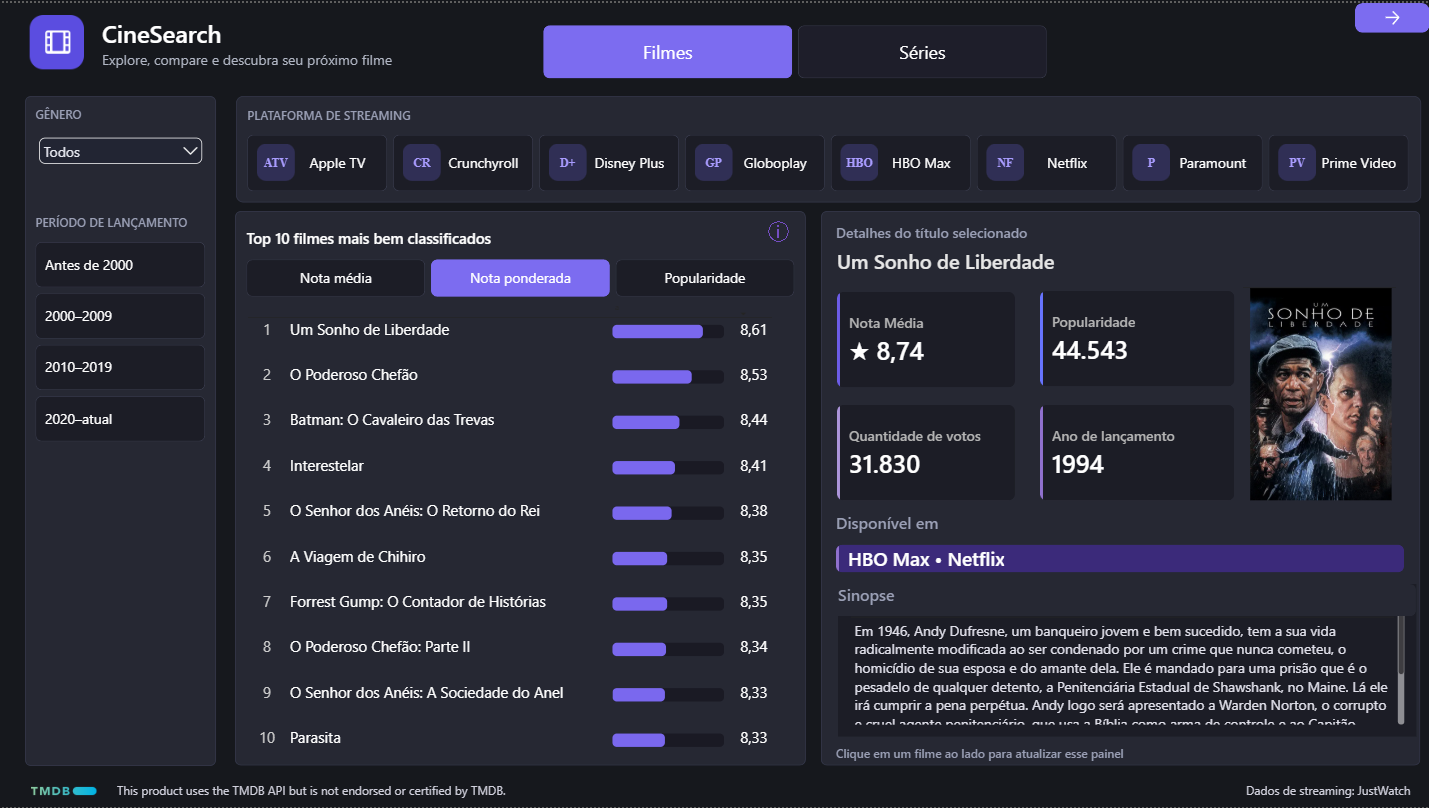

The dashboard page shown, as its layout file describes it:
{"tool":"powerbi","page":{"name":"Filmes","canvas":[1920,1080],"ordinal":0},"visuals":[{"type":"shape","box":[33.3,125,256.7,900],"z":0},{"type":"textbox","box":[137.1,19,304.9,43.8],"z":1000},{"type":"textbox","box":[137.1,62.7,405.6,51.1],"z":2000},{"type":"image","box":[23.3,16,106.5,72.9],"z":3000},{"type":"advancedSlicerVisual","title":"PLATAFORMA DE STREAMING","fields":{"Values":["vw_Provedores.provedor_nome"]},"box":[316.7,125,1591.7,143.3],"z":4000},{"type":"slicer","title":"GÊNERO","fields":{"Values":["vw_Generos.genero_nome"]},"box":[33.6,125.5,256.7,144.4],"z":5000},{"type":"advancedSlicerVisual","title":"PERÍODO DE LANÇAMENTO","fields":{"Values":["vw_Titulos.Personalizar"]},"box":[33.3,269.7,256.7,334.4],"z":6000},{"type":"shape","box":[315,280,766.7,745],"z":7000},{"type":"shape","box":[1103.3,280,805,745],"z":8000},{"type":"advancedSlicerVisual","fields":{"Values":["SeletorMetrica.Metrica"]},"box":[316.6,287.4,766.7,121.7],"z":9000},{"type":"tableEx","fields":{"Values":["SeletorMetrica.Ranking","vw_Titulos.titulo","SeletorMetrica.Barra SVG","vw_Titulos.Valor Ordenacao"]},"box":[315.4,400.1,788.4,668.7],"z":10000},{"type":"textbox","box":[1123.3,295,284.5,61.3],"z":11000},{"type":"cardVisual","fields":{"Data":["SeletorMetrica.Detalhe Titulo"]},"box":[1108.3,308.3,798.3,73.3],"z":12000},{"type":"cardVisual","fields":{"Data":["SeletorMetrica.KPI NotaMedia"]},"box":[1124.9,388.1,239.3,128.4],"z":13000},{"type":"cardVisual","fields":{"Data":["SeletorMetrica.KPI Popularidade"]},"box":[1396.7,386.7,261.2,128.4],"z":14000},{"type":"cardVisual","fields":{"Data":["SeletorMetrica.KPI Votos"]},"box":[1124.9,539.8,239.3,128.4],"z":15000},{"type":"cardVisual","fields":{"Data":["SeletorMetrica.KPI AnoLançamento"]},"box":[1396.7,540,261.7,128.3],"z":16000},{"type":"cardVisual","title":"Disponível em","fields":{"Data":["SeletorMetrica.KPI Plataformas Texto"]},"box":[1123.3,683.3,763.3,81.7],"z":17000},{"type":"tableEx","fields":{"Values":["SeletorMetrica.KPI Sinopse"]},"box":[1125,780,776.7,205],"z":18000},{"type":"shape","box":[1118.3,780,783.3,43.3],"z":19000},{"type":"textbox","box":[1125,780,158.3,63.3],"z":20000},{"type":"textbox","box":[1123.3,996.7,761.7,50],"z":21000},{"type":"textbox","box":[156.7,1046.7,925,21.7],"z":22000},{"type":"image","box":[41.7,1036.7,88.3,43.3],"z":23000},{"type":"textbox","box":[1673.3,1046.7,235,21.7],"z":24000},{"type":"tableEx","fields":{"Values":["SeletorMetrica.Poster Selecionado"]},"box":[1668.3,360,216.7,323.3],"z":25000},{"type":"cardVisual","fields":{"Data":["SeletorMetrica.Icone_Info"]},"box":[1031.5,287.4,36.5,37.9],"z":26000},{"type":"advancedSlicerVisual","fields":{"Values":["vw_Titulos.Tipo_segmento"]},"box":[715.4,16.1,705.2,99.3],"z":27000},{"type":"actionButton","box":[1820,0,100,40],"z":28000}]}

Visuals, with their boxes in screenshot pixels (x1, y1, x2, y2), scaled from the page's 1920x1080 canvas onto the 1429x808 screenshot:
shape: {"x1": 25, "y1": 94, "x2": 216, "y2": 767}
textbox: {"x1": 102, "y1": 14, "x2": 329, "y2": 47}
textbox: {"x1": 102, "y1": 47, "x2": 404, "y2": 85}
image: {"x1": 17, "y1": 12, "x2": 97, "y2": 67}
"PLATAFORMA DE STREAMING" advancedSlicerVisual: {"x1": 236, "y1": 94, "x2": 1420, "y2": 201}
"GÊNERO" slicer: {"x1": 25, "y1": 94, "x2": 216, "y2": 202}
"PERÍODO DE LANÇAMENTO" advancedSlicerVisual: {"x1": 25, "y1": 202, "x2": 216, "y2": 452}
shape: {"x1": 234, "y1": 209, "x2": 805, "y2": 767}
shape: {"x1": 821, "y1": 209, "x2": 1420, "y2": 767}
advancedSlicerVisual - SeletorMetrica.Metrica: {"x1": 236, "y1": 215, "x2": 806, "y2": 306}
tableEx - SeletorMetrica.Ranking x vw_Titulos.titulo: {"x1": 235, "y1": 299, "x2": 822, "y2": 800}
textbox: {"x1": 836, "y1": 221, "x2": 1048, "y2": 267}
cardVisual - SeletorMetrica.Detalhe Titulo: {"x1": 825, "y1": 231, "x2": 1419, "y2": 285}
cardVisual - SeletorMetrica.KPI NotaMedia: {"x1": 837, "y1": 290, "x2": 1015, "y2": 386}
cardVisual - SeletorMetrica.KPI Popularidade: {"x1": 1040, "y1": 289, "x2": 1234, "y2": 385}
cardVisual - SeletorMetrica.KPI Votos: {"x1": 837, "y1": 404, "x2": 1015, "y2": 500}
cardVisual - SeletorMetrica.KPI AnoLançamento: {"x1": 1040, "y1": 404, "x2": 1234, "y2": 500}
"Disponível em" cardVisual: {"x1": 836, "y1": 511, "x2": 1404, "y2": 572}
tableEx - SeletorMetrica.KPI Sinopse: {"x1": 837, "y1": 584, "x2": 1415, "y2": 737}
shape: {"x1": 832, "y1": 584, "x2": 1415, "y2": 616}
textbox: {"x1": 837, "y1": 584, "x2": 955, "y2": 631}
textbox: {"x1": 836, "y1": 746, "x2": 1403, "y2": 783}
textbox: {"x1": 117, "y1": 783, "x2": 805, "y2": 799}
image: {"x1": 31, "y1": 776, "x2": 97, "y2": 807}
textbox: {"x1": 1245, "y1": 783, "x2": 1420, "y2": 799}
tableEx - SeletorMetrica.Poster Selecionado: {"x1": 1242, "y1": 269, "x2": 1403, "y2": 511}
cardVisual - SeletorMetrica.Icone_Info: {"x1": 768, "y1": 215, "x2": 795, "y2": 243}
advancedSlicerVisual - vw_Titulos.Tipo_segmento: {"x1": 532, "y1": 12, "x2": 1057, "y2": 86}
actionButton: {"x1": 1355, "y1": 0, "x2": 1428, "y2": 30}
